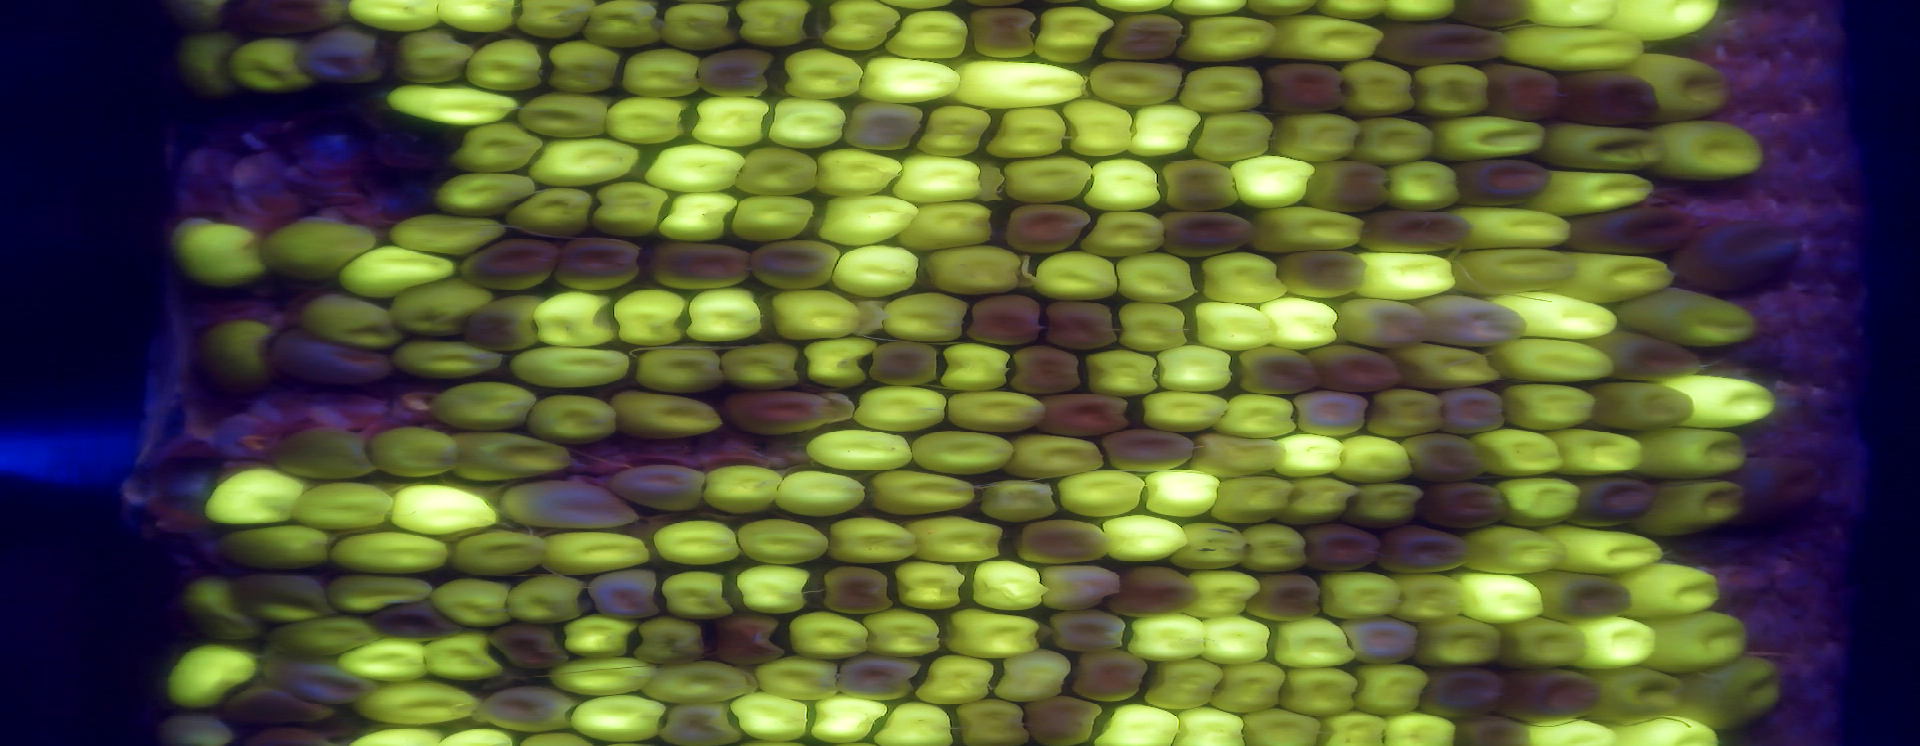fluorescent: (1609, 274, 1760, 352), (165, 206, 273, 288), (1651, 116, 1769, 184), (1543, 119, 1671, 179), (1635, 473, 1744, 543), (1663, 372, 1784, 435), (261, 216, 375, 279), (1629, 50, 1730, 121), (1499, 24, 1649, 72), (384, 277, 490, 344), (1532, 165, 1660, 220), (160, 642, 260, 713), (954, 58, 1093, 108), (416, 379, 531, 439), (298, 289, 400, 355), (192, 318, 280, 394), (1498, 285, 1616, 342), (448, 425, 566, 481), (1262, 13, 1385, 67), (382, 205, 504, 258), (1643, 610, 1749, 673), (1684, 666, 1783, 733), (336, 241, 459, 294), (324, 526, 452, 575), (637, 143, 749, 198), (612, 387, 722, 443), (818, 190, 926, 247), (1637, 423, 1752, 477), (1187, 292, 1282, 356), (217, 519, 337, 571), (1489, 336, 1618, 383), (358, 681, 485, 729), (1461, 523, 1573, 577), (1549, 521, 1660, 575), (1357, 250, 1461, 307), (940, 606, 1051, 660), (891, 147, 988, 208), (1460, 200, 1577, 250), (1453, 247, 1573, 296), (898, 198, 1007, 252), (1000, 431, 1107, 486), (1411, 616, 1515, 673), (1032, 1, 1119, 69), (1242, 207, 1367, 254), (680, 284, 773, 347), (1566, 611, 1656, 676), (444, 125, 547, 181), (272, 421, 375, 478), (1194, 249, 1292, 307), (858, 51, 962, 107), (1591, 668, 1682, 730), (907, 429, 1018, 480), (1491, 472, 1582, 534), (867, 467, 980, 517), (298, 475, 396, 533), (538, 288, 620, 356), (1607, 1, 1724, 49), (1169, 18, 1281, 69), (523, 390, 622, 446), (828, 243, 924, 300), (426, 168, 531, 220), (503, 184, 598, 243), (1562, 249, 1673, 299), (529, 138, 643, 186), (1619, 566, 1722, 619), (1229, 153, 1318, 214), (611, 283, 686, 355), (1266, 110, 1362, 167), (1057, 98, 1141, 162), (803, 425, 916, 473), (542, 529, 655, 577), (1082, 56, 1187, 108), (204, 472, 296, 529), (383, 83, 518, 122), (847, 383, 949, 435), (923, 243, 1022, 295), (906, 516, 1005, 568), (431, 572, 516, 633), (1397, 343, 1500, 393), (1430, 113, 1547, 157), (504, 570, 591, 628), (880, 289, 971, 345), (336, 631, 437, 681), (591, 181, 669, 247), (942, 387, 1046, 436), (394, 483, 491, 535), (184, 575, 262, 639), (982, 107, 1076, 160), (551, 657, 662, 702), (764, 96, 850, 154), (770, 287, 866, 339), (1505, 381, 1600, 434), (736, 514, 831, 567), (882, 11, 975, 65), (771, 469, 868, 521), (1260, 293, 1344, 352), (391, 338, 506, 381), (604, 93, 691, 149), (813, 145, 904, 198), (1080, 209, 1171, 263), (1087, 158, 1167, 219), (781, 47, 866, 104), (1100, 512, 1188, 567), (824, 517, 921, 567), (326, 570, 432, 615), (467, 36, 546, 96), (1456, 573, 1544, 627), (691, 96, 771, 154), (787, 610, 876, 664), (735, 145, 820, 200), (1032, 249, 1119, 303), (1280, 663, 1359, 722), (729, 192, 822, 243), (508, 344, 627, 383), (917, 102, 993, 163), (637, 343, 729, 393), (369, 430, 458, 481), (421, 631, 504, 686), (227, 40, 313, 93), (1191, 432, 1284, 481), (735, 562, 816, 619), (1272, 617, 1363, 668), (1003, 157, 1093, 207), (1173, 518, 1250, 577), (1056, 468, 1144, 519), (969, 559, 1046, 617), (1353, 661, 1428, 722), (1183, 59, 1264, 114), (659, 191, 740, 246), (1215, 657, 1284, 720), (1472, 428, 1562, 477), (653, 1, 741, 51), (1216, 392, 1302, 443), (1349, 475, 1423, 535), (654, 514, 746, 562), (1127, 102, 1202, 159), (1351, 114, 1438, 164), (1144, 386, 1231, 436), (1505, 619, 1589, 670), (1114, 254, 1196, 306), (720, 341, 802, 393), (1190, 113, 1276, 163), (803, 695, 889, 745), (801, 334, 876, 392), (620, 44, 703, 96), (1149, 659, 1224, 715), (1117, 300, 1194, 355), (1342, 58, 1414, 116), (1157, 341, 1236, 394), (1393, 573, 1476, 625), (454, 530, 545, 577), (1237, 522, 1311, 578), (1414, 62, 1490, 118), (756, 654, 842, 702), (1561, 428, 1646, 477), (545, 42, 618, 98), (1127, 612, 1205, 665), (1144, 468, 1222, 521), (1384, 159, 1462, 212), (866, 612, 945, 664), (579, 1, 660, 51), (576, 698, 660, 746), (704, 463, 782, 514), (394, 36, 469, 89), (819, 1, 895, 54), (893, 559, 967, 611), (937, 342, 1013, 393), (660, 570, 740, 619), (170, 31, 229, 97), (1212, 475, 1289, 526), (917, 659, 992, 710), (730, 693, 812, 740), (872, 702, 958, 746), (1090, 706, 1183, 746), (1320, 575, 1404, 619), (736, 1, 817, 47), (1085, 350, 1160, 399), (1189, 571, 1259, 622), (1167, 706, 1255, 746), (1000, 650, 1070, 701), (983, 479, 1058, 526), (1340, 432, 1414, 479), (1201, 617, 1273, 665), (1283, 477, 1351, 526), (1278, 432, 1344, 481), (562, 619, 636, 661), (1520, 1, 1622, 31), (511, 1, 591, 37), (1242, 710, 1320, 746), (438, 1, 518, 36), (1520, 720, 1619, 746), (1382, 713, 1460, 746), (1625, 719, 1718, 746), (350, 1, 441, 28), (1316, 713, 1389, 746), (349, 724, 443, 746), (1382, 1, 1457, 24), (435, 730, 511, 746)
nonfluorescent: (1682, 220, 1805, 296), (267, 323, 396, 387), (500, 478, 650, 530), (1553, 69, 1667, 137), (1569, 203, 1698, 263), (1728, 452, 1826, 528), (258, 653, 378, 707), (1476, 56, 1562, 129), (1373, 18, 1515, 62), (298, 26, 398, 86), (1149, 206, 1258, 261), (647, 236, 756, 292), (1422, 296, 1533, 349), (1603, 330, 1707, 386), (1501, 666, 1603, 724), (219, 1, 356, 43), (1308, 156, 1401, 217), (462, 236, 560, 294), (1367, 209, 1480, 258), (1333, 295, 1430, 353), (1273, 251, 1373, 306), (1307, 345, 1413, 396), (724, 388, 838, 435), (555, 233, 643, 293), (1000, 200, 1090, 258), (1260, 61, 1353, 118), (1108, 563, 1199, 621), (1040, 296, 1123, 358), (749, 238, 842, 292), (218, 685, 338, 726), (1100, 425, 1201, 474), (1434, 385, 1516, 445), (1545, 572, 1638, 625), (1423, 479, 1515, 532), (1040, 563, 1129, 617), (839, 100, 926, 156), (696, 45, 786, 98), (1287, 383, 1373, 439), (1381, 523, 1473, 575), (616, 464, 710, 513), (1460, 158, 1553, 207), (1018, 518, 1111, 567), (1038, 610, 1136, 657), (819, 563, 902, 617), (1571, 478, 1658, 529), (1068, 648, 1149, 703), (838, 650, 922, 703), (1423, 668, 1506, 720), (1400, 432, 1487, 483), (1102, 12, 1188, 62), (1036, 393, 1130, 439), (967, 294, 1046, 348), (369, 600, 467, 643), (468, 292, 538, 350), (1303, 524, 1384, 575), (486, 685, 573, 731), (489, 624, 571, 673), (1007, 343, 1082, 396), (1026, 695, 1103, 746), (872, 334, 943, 390), (1343, 619, 1423, 668), (589, 570, 662, 622), (1238, 347, 1319, 394), (714, 614, 785, 668), (969, 12, 1042, 62), (1248, 575, 1322, 624), (1449, 713, 1532, 746), (156, 710, 231, 746)
